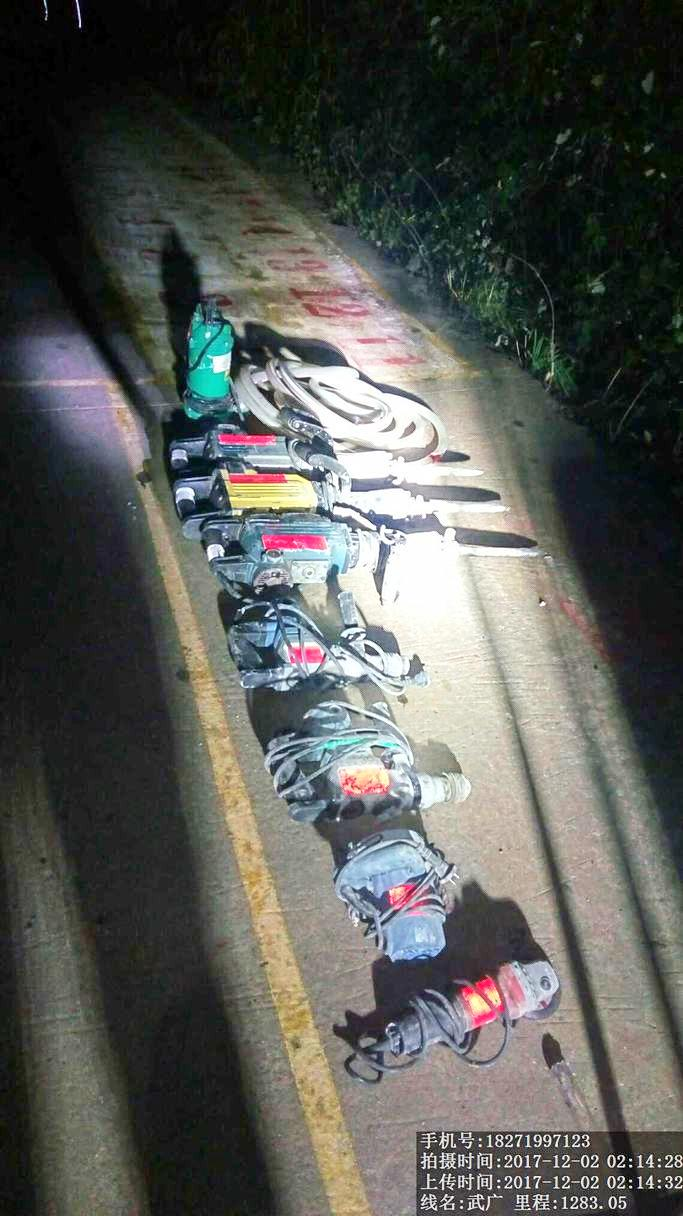DMJ: (332, 941, 565, 1073)
DZ: (237, 693, 498, 827), (180, 503, 552, 597), (217, 589, 439, 698)
